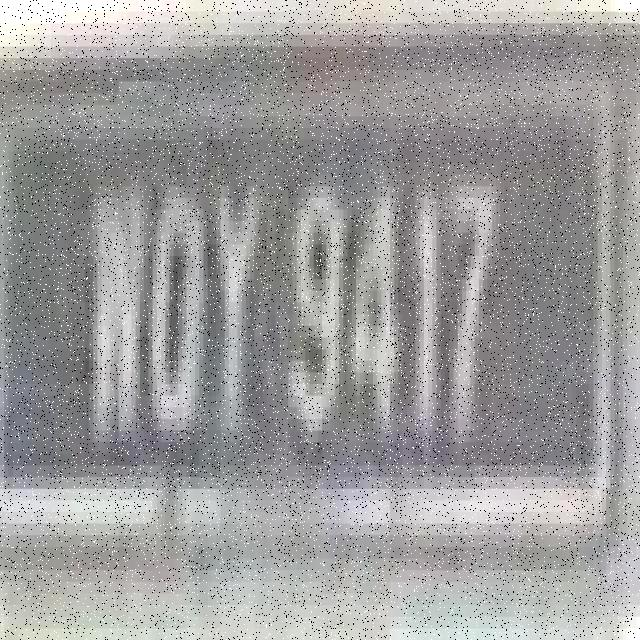licenseplate: (1, 88, 617, 570)
